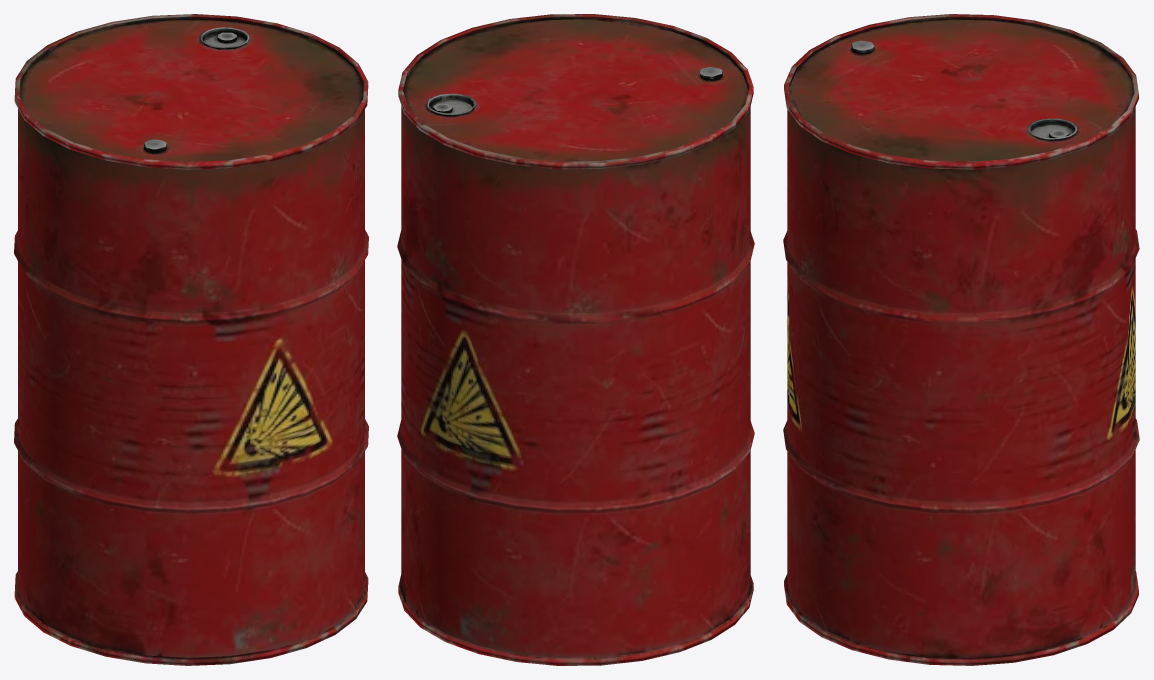
The model's file is barrel.glb.
3 views of the same model, side by side, from view 1: azimuth 30°, elevation 25°; view 2: azimuth 150°, elevation 25°; view 3: azimuth 270°, elevation 25° (orthographic).
Parts seen in each view (by area): view 1: Barrel_01; view 2: Barrel_01; view 3: Barrel_01.
Part boxes in pixels (x1,y1,x2,y2): Barrel_01: (14,14,368,665); Barrel_01: (397,14,754,665); Barrel_01: (783,14,1139,665).
Size of the model in its own units: 0.5628 by 0.8789 by 0.5628.
Materials: 1 (1 with a texture image).
